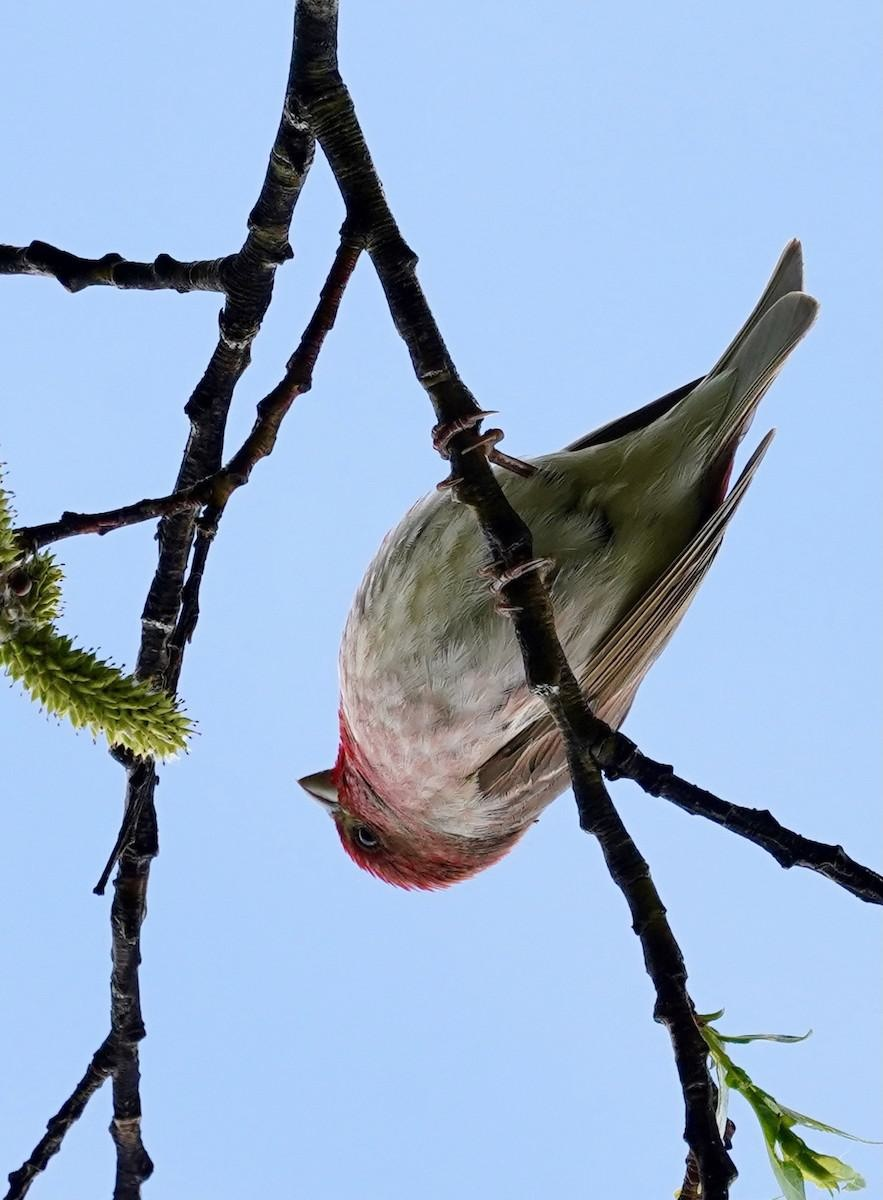rosefinch: (267, 318, 800, 921)
